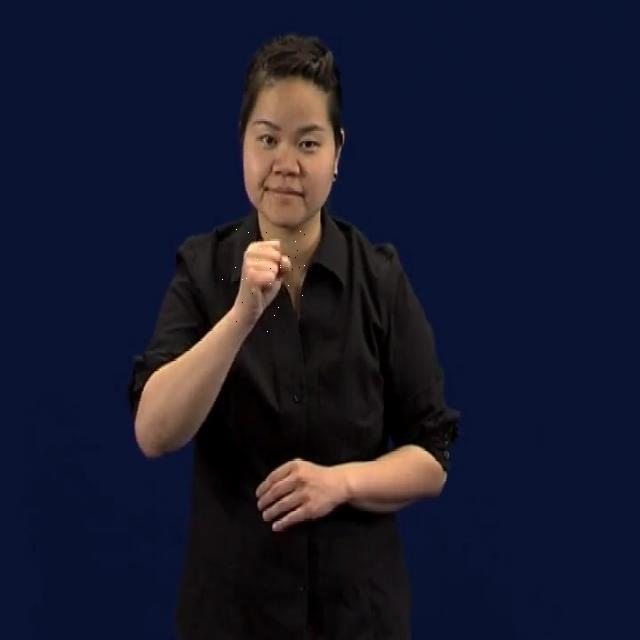icecream: (222, 228, 305, 338)
